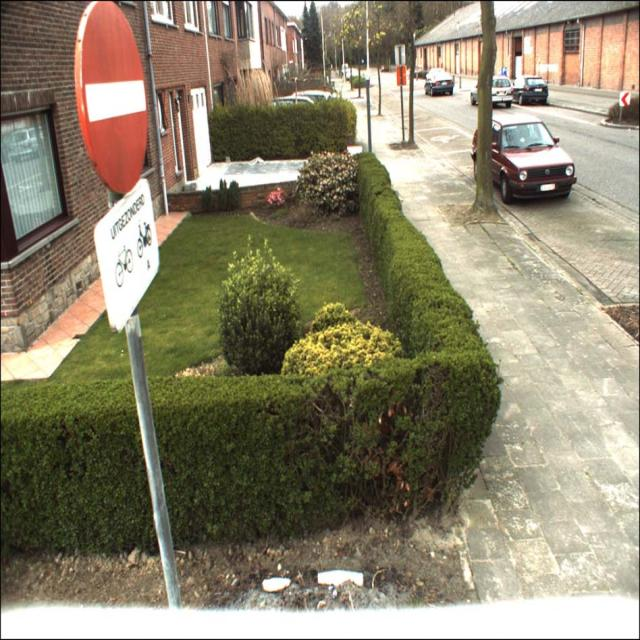girisyok: (75, 1, 148, 195)
